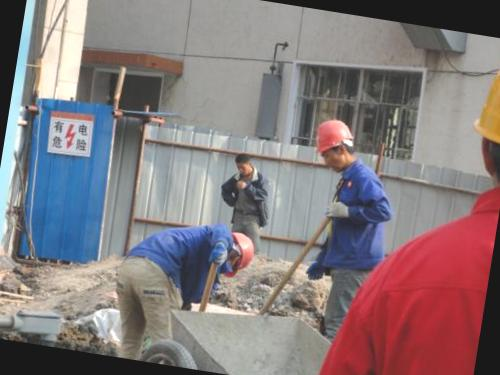no_helmet: (225, 148, 259, 176)
